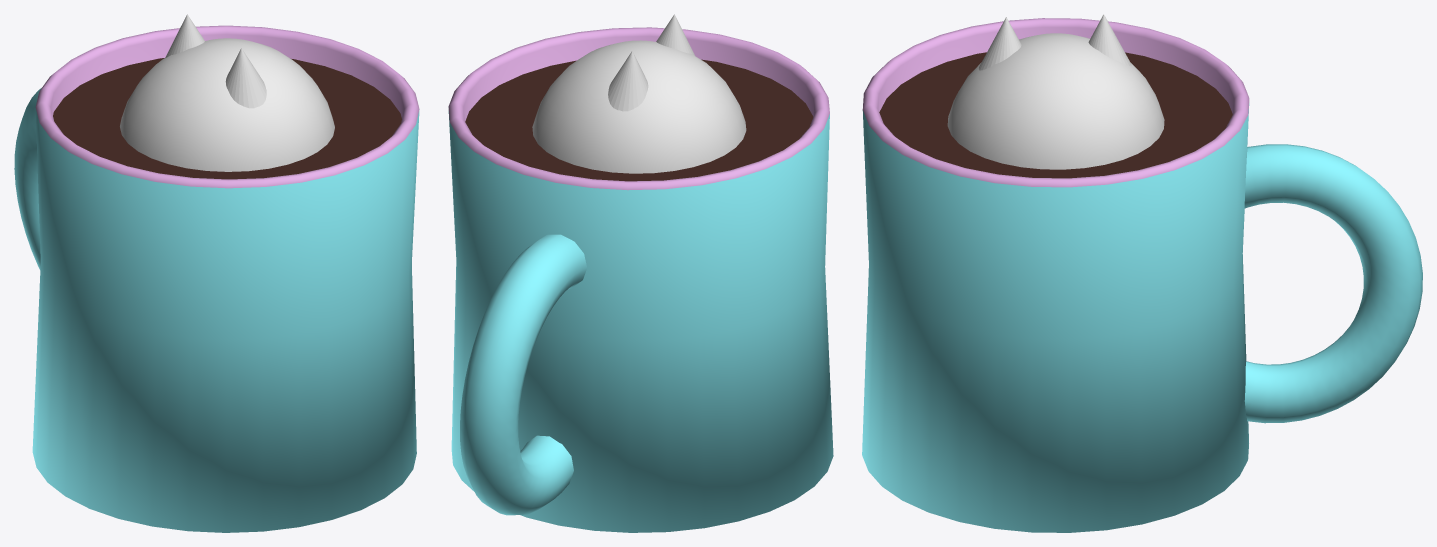
Rendered from nekomag.glb.
3 renders of one model, left to right at view 1: azimuth 30°, elevation 25°; view 2: azimuth 150°, elevation 25°; view 3: azimuth 270°, elevation 25°, orthographic.
Parts seen in each view (by area): view 1: 円柱, 球, 円柱.001, トーラス.001, 円錐; view 2: 円柱, 球, トーラス.001, 円柱.001, 円錐; view 3: 円柱, トーラス.001, 球, 円柱.001, 円錐.
Part boxes in pixels (bbox=[...]): 円柱: bbox=[32, 25, 419, 532]; 球: bbox=[120, 38, 334, 171]; 円柱.001: bbox=[53, 58, 401, 179]; トーラス.001: bbox=[14, 88, 41, 269]; 円錐: bbox=[165, 14, 266, 108]; 円柱: bbox=[448, 27, 833, 532]; 球: bbox=[532, 40, 746, 173]; トーラス.001: bbox=[460, 234, 586, 515]; 円柱.001: bbox=[465, 59, 813, 181]; 円錐: bbox=[608, 14, 694, 111]; 円柱: bbox=[862, 18, 1249, 532]; トーラス.001: bbox=[1244, 144, 1422, 423]; 球: bbox=[947, 33, 1164, 169]; 円柱.001: bbox=[879, 52, 1232, 178]; 円錐: bbox=[979, 14, 1131, 70].
Bounding box in the file's own units: 2.01 × 2.45 × 2.89.
